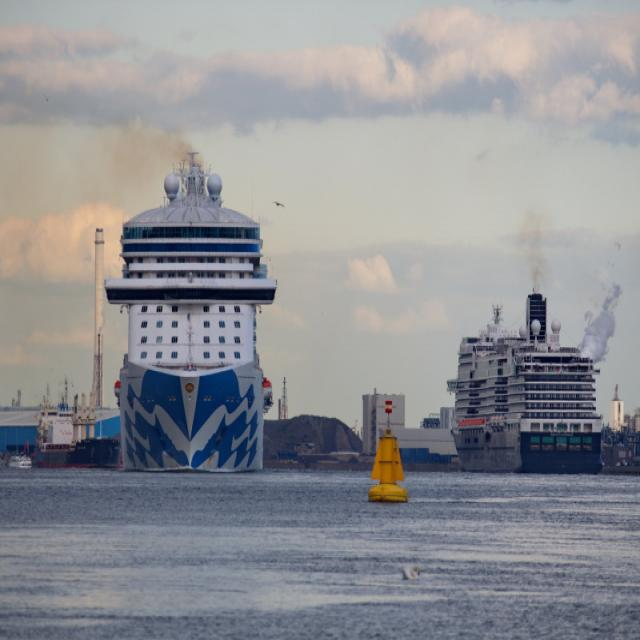cruises: (103, 144, 279, 484), (446, 289, 606, 485)
